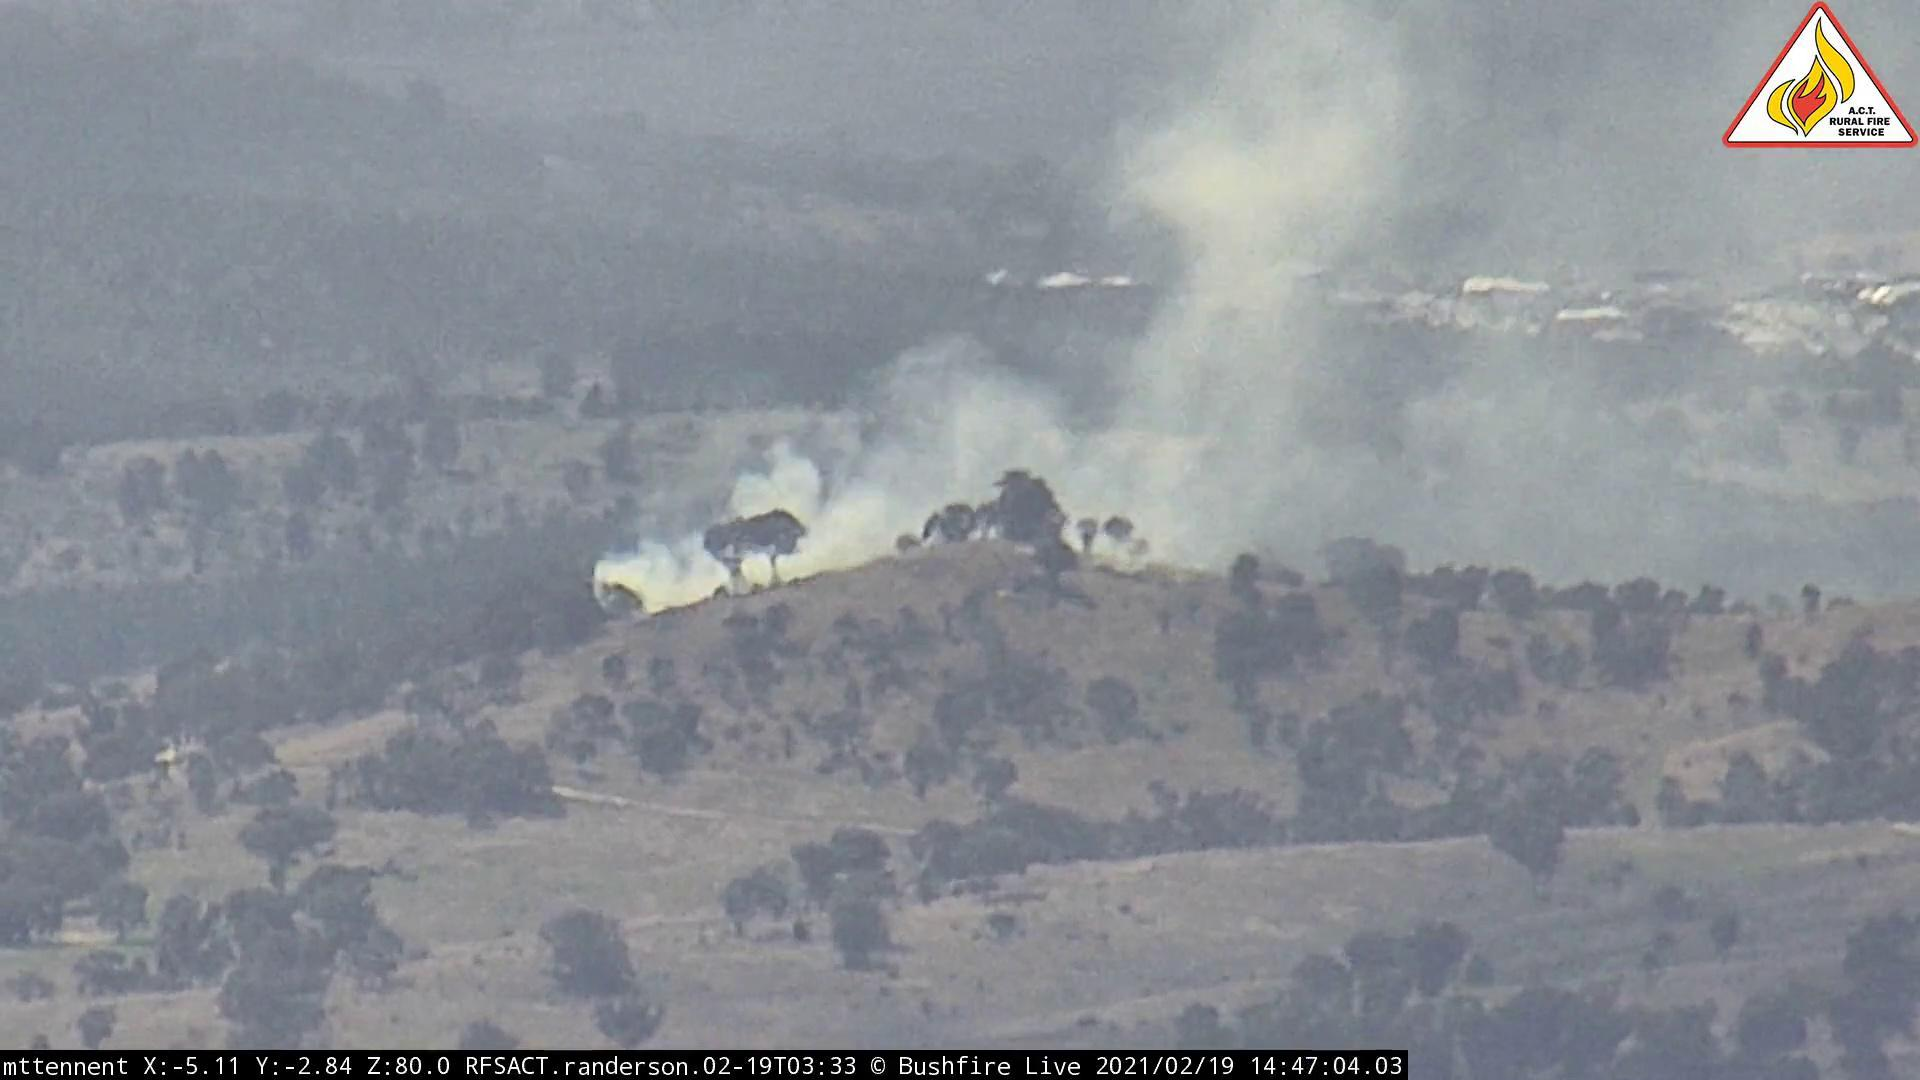Smoke: (611, 20, 1625, 632)
